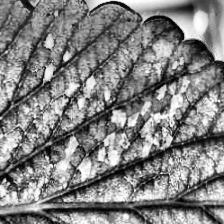Angular Leafspot: (0, 26, 224, 220)
